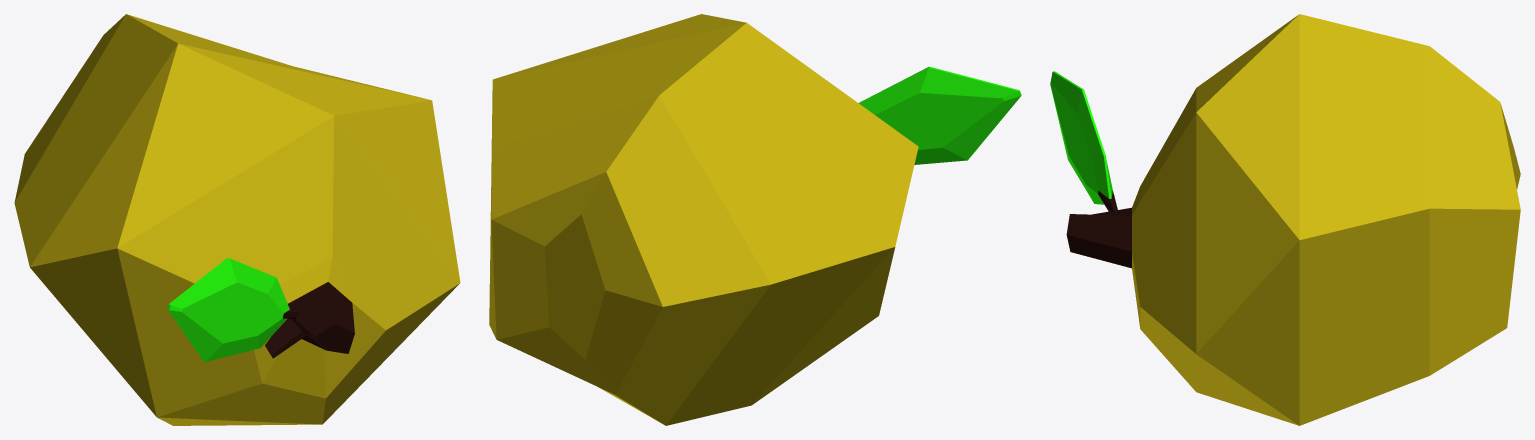
Rendered from Apple Yellow.fbx.
The picture shows the model from 3 angles, left to right: view 1: azimuth 30°, elevation 25°; view 2: azimuth 150°, elevation 25°; view 3: azimuth 270°, elevation 25°; orthographic projection. The views are drawn at different scales.
Visible parts, largest first — view 1: Apple_Yellow; view 2: Apple_Yellow; view 3: Apple_Yellow.
Part boxes in pixels (x1=…): Apple_Yellow: x1=14, y1=14, x2=460, y2=425; Apple_Yellow: x1=489, y1=14, x2=1021, y2=425; Apple_Yellow: x1=1050, y1=14, x2=1520, y2=425.
Bounding box in the file's own units: 2.53 × 2.29 × 2.75.
